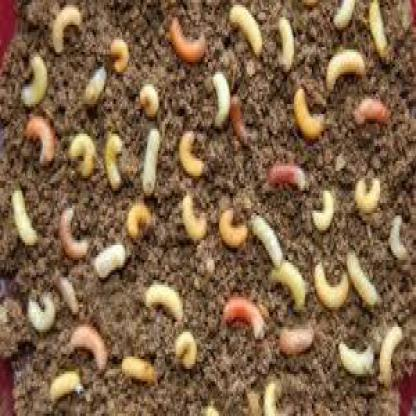root grubs: (253, 219, 284, 272), (11, 191, 36, 243), (142, 127, 160, 191), (180, 134, 204, 170), (182, 202, 204, 238)
